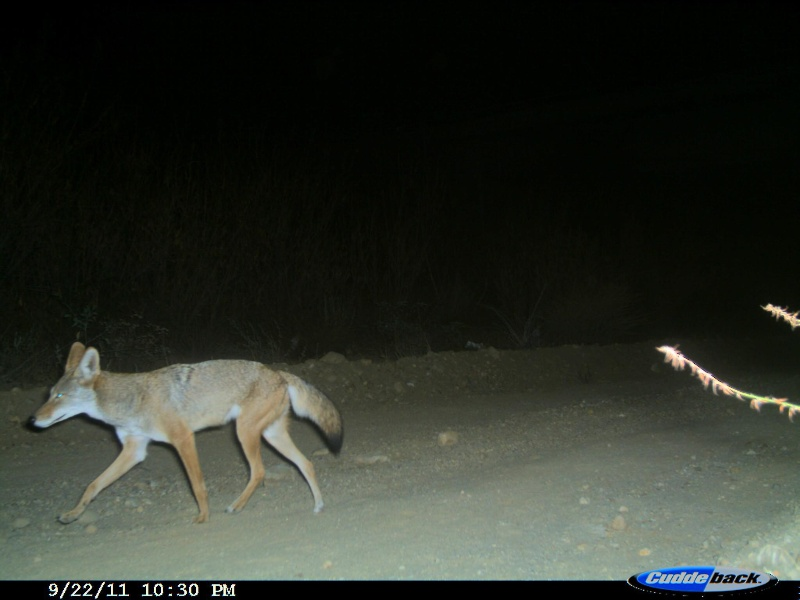coyote: (30, 338, 347, 528)
